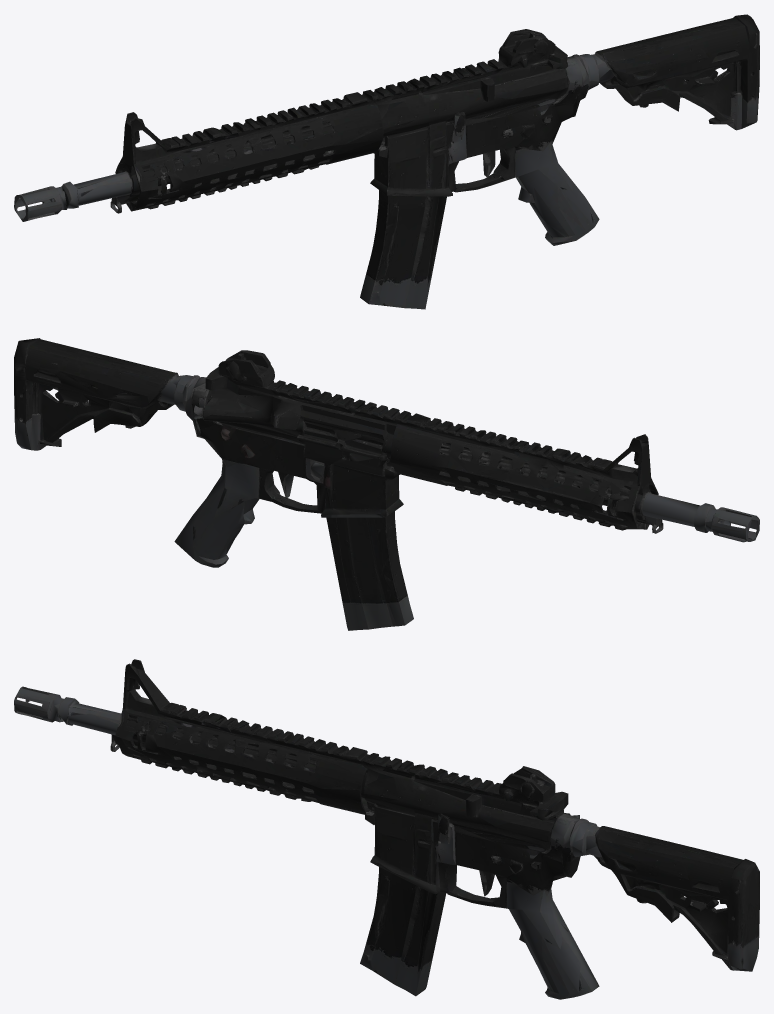
File: rifle_m4.glb
The picture shows the model from 3 angles, top to bottom: view 1: azimuth 30°, elevation 25°; view 2: azimuth 150°, elevation 25°; view 3: azimuth 330°, elevation 25°; orthographic projection.
Bounding box in the file's own units: 1.9 × 0.646 × 0.1527.
Materials: 1 (1 with a texture image).
